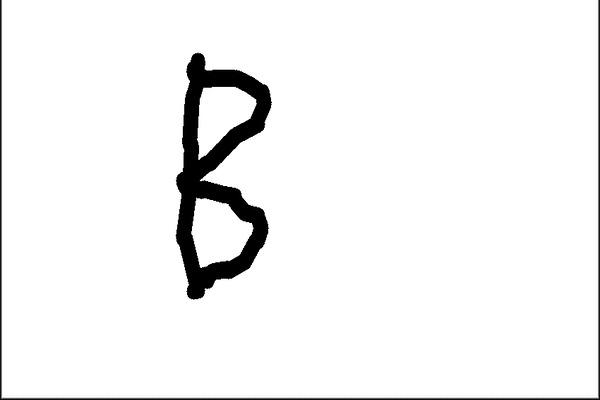B: (161, 44, 279, 307)
